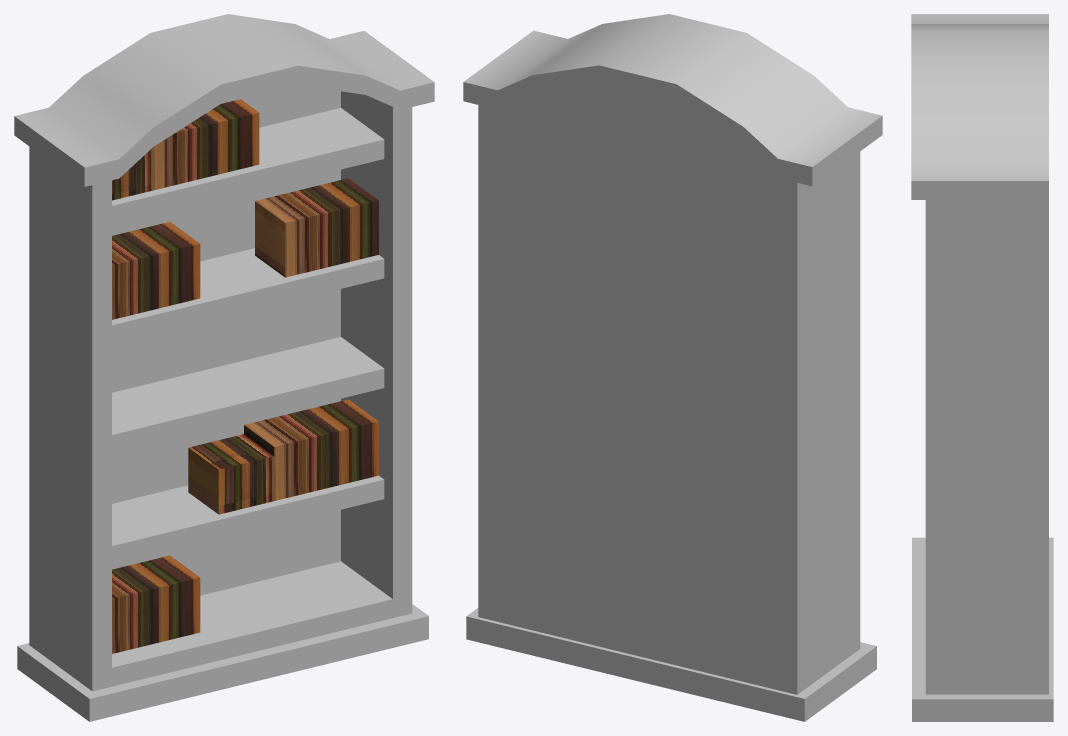
The model's file is Bookshelf_2.fbx.
3 renders of one model, left to right at view 1: azimuth 30°, elevation 25°; view 2: azimuth 150°, elevation 25°; view 3: azimuth 270°, elevation 25°, orthographic. The views are drawn at different scales.
Visible parts, largest first — view 1: Cube.004; view 2: Cube.004; view 3: Cube.004.
Part boxes in pixels (bbox=[...]): Cube.004: bbox=[14, 14, 434, 721]; Cube.004: bbox=[463, 14, 882, 721]; Cube.004: bbox=[911, 14, 1053, 721].
Bounding box in the file's own units: 132 × 218 × 47.45.
